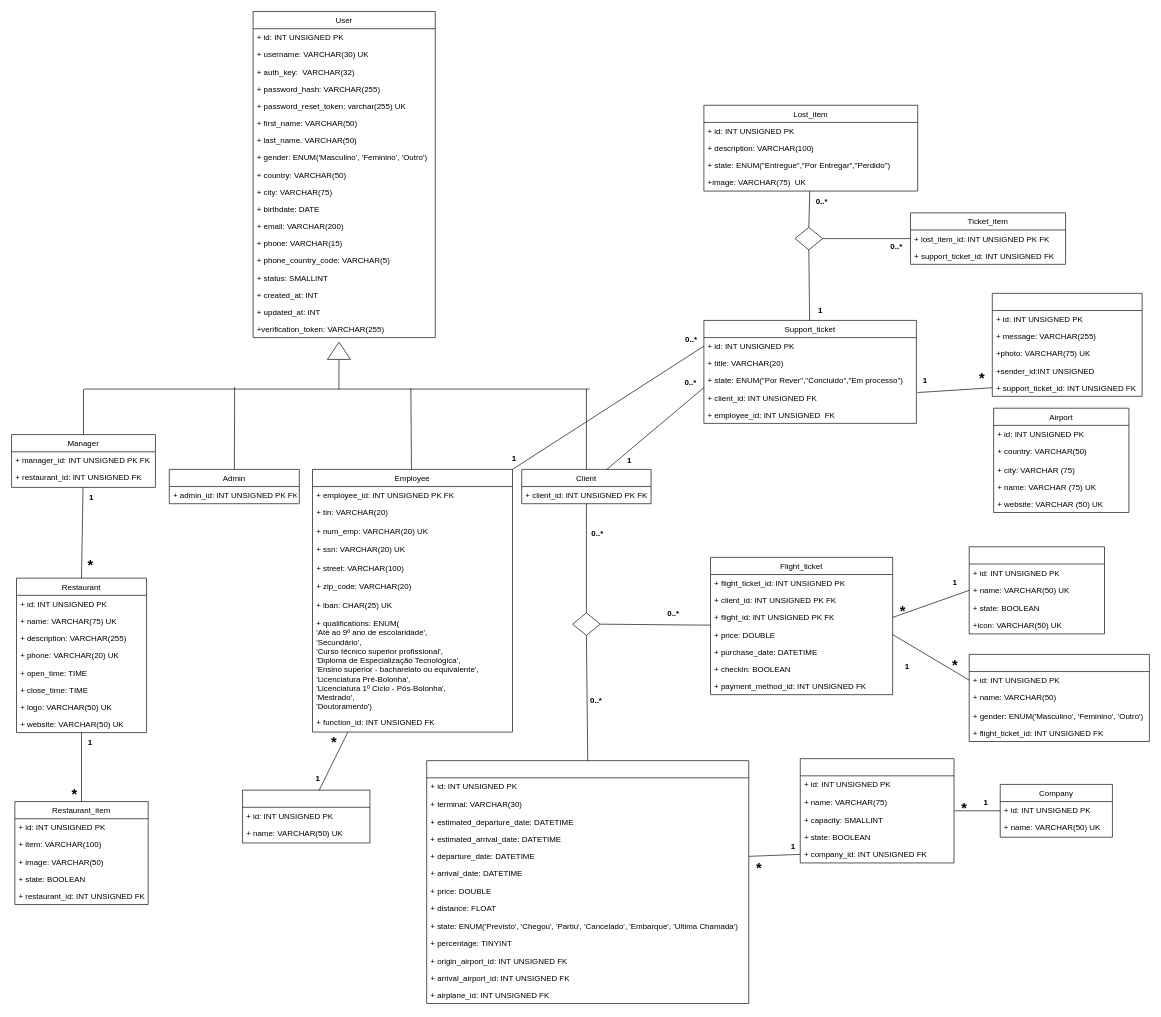
This 1161x1017 diagram has some shape labels left out. Here are the shapes that lost their labels. From the top down, the box of each, then its label:
(992, 293, 1142, 396): Ticket_Message
(969, 546, 1105, 634): Payment_Method
(969, 654, 1149, 742): Passenger
(242, 789, 370, 843): Function
(800, 758, 954, 863): Airplane
(426, 760, 749, 1004): Flight
